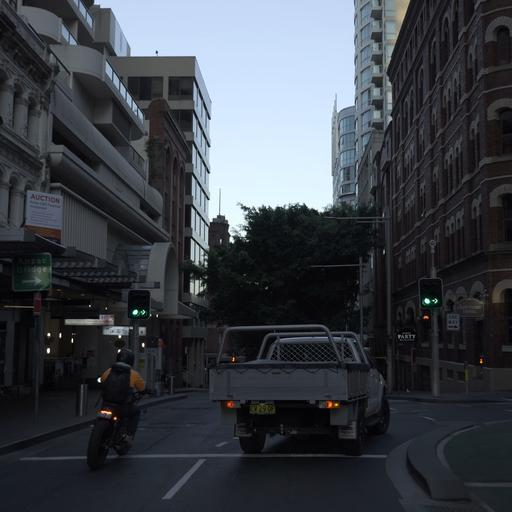Street light: (321, 213, 395, 393), (308, 260, 365, 345), (418, 276, 442, 309), (126, 288, 150, 319)
